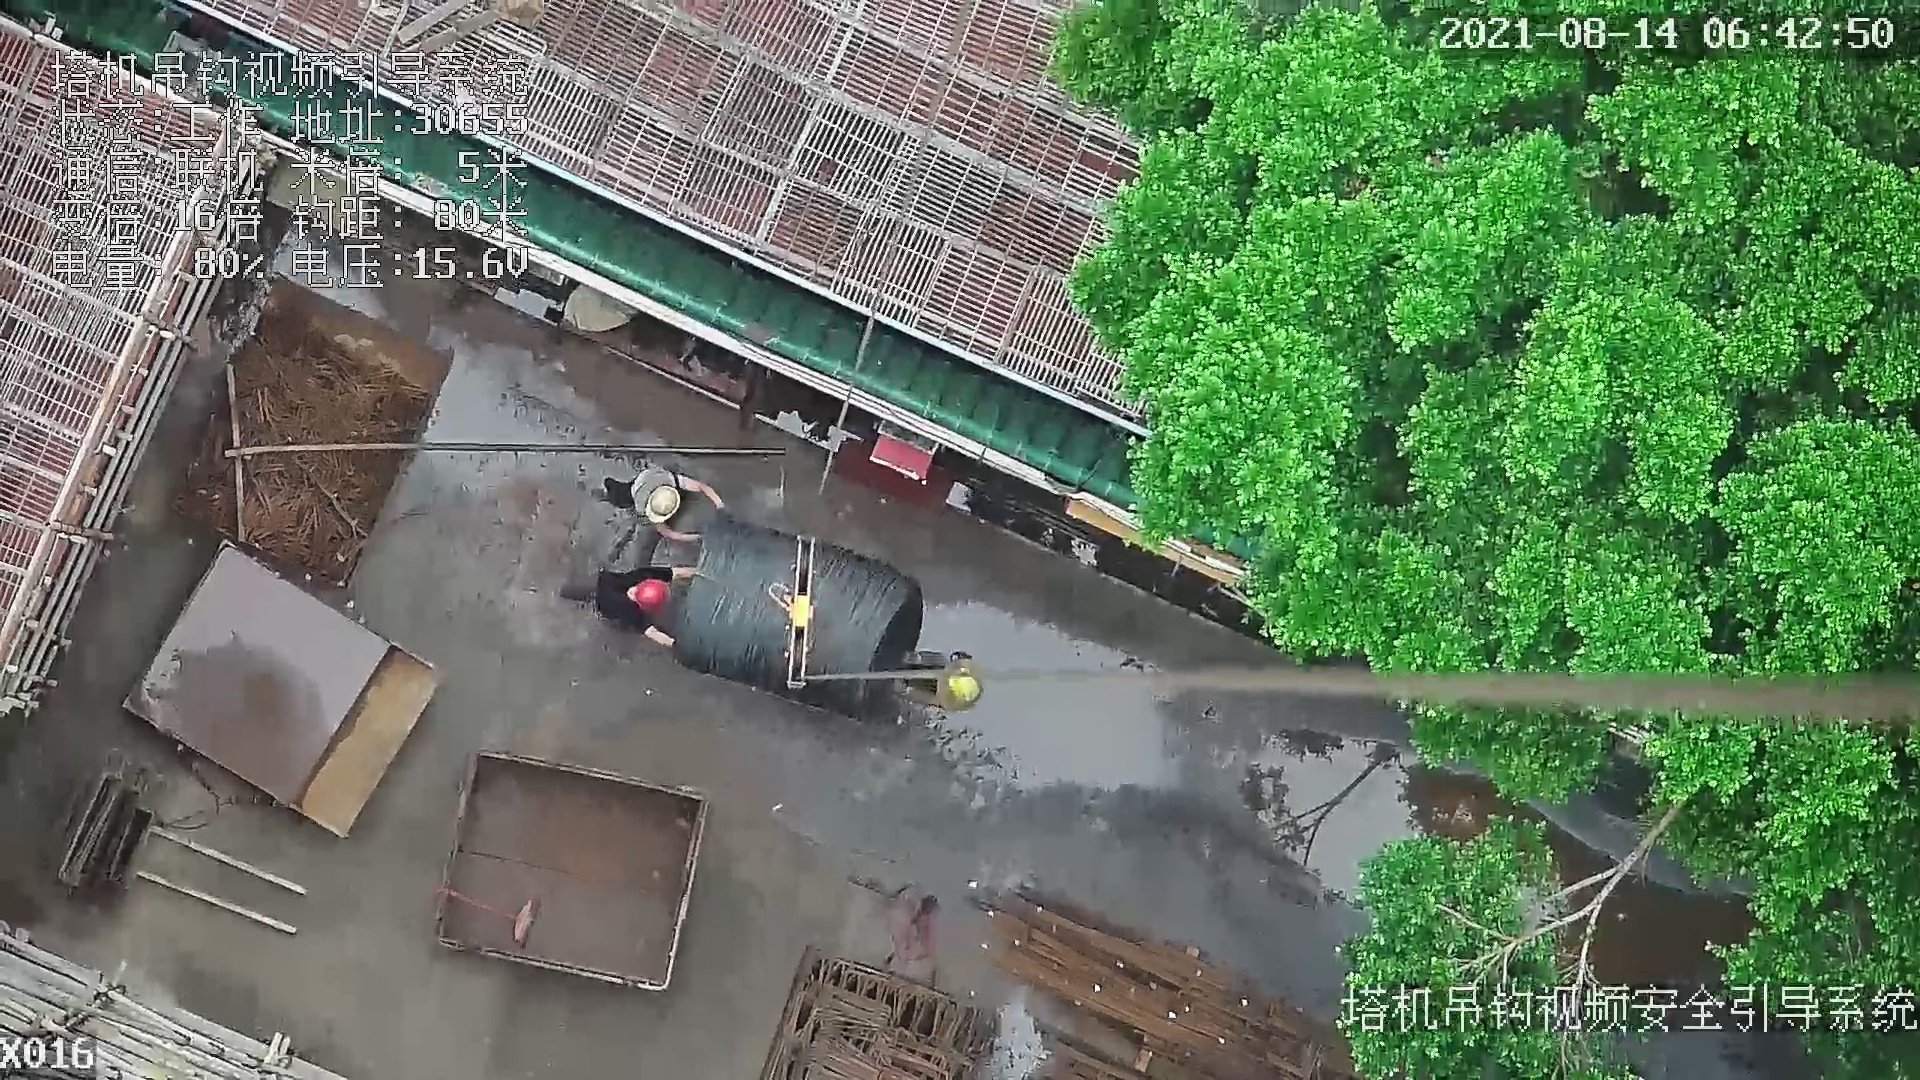helmet: (645, 483, 678, 522), (951, 676, 980, 708), (636, 582, 667, 608)
hook: (764, 530, 817, 690)
person: (567, 562, 709, 653), (606, 463, 723, 547), (885, 642, 994, 719)
